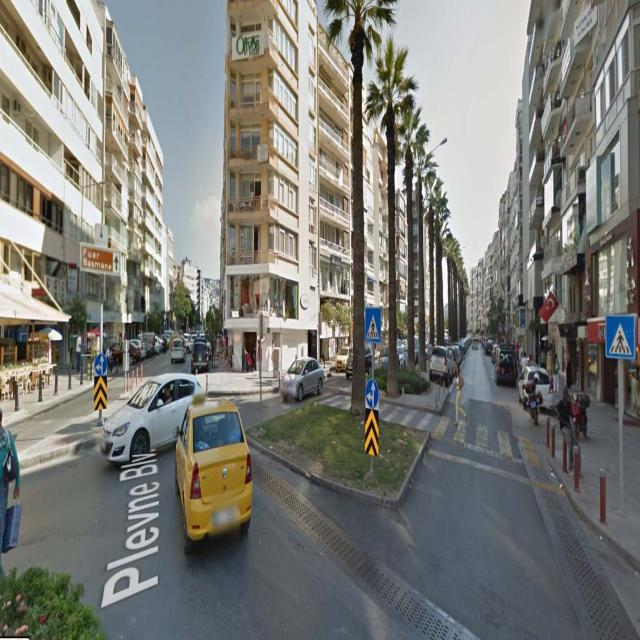ilerisol: (366, 379, 379, 408), (95, 354, 107, 376)
